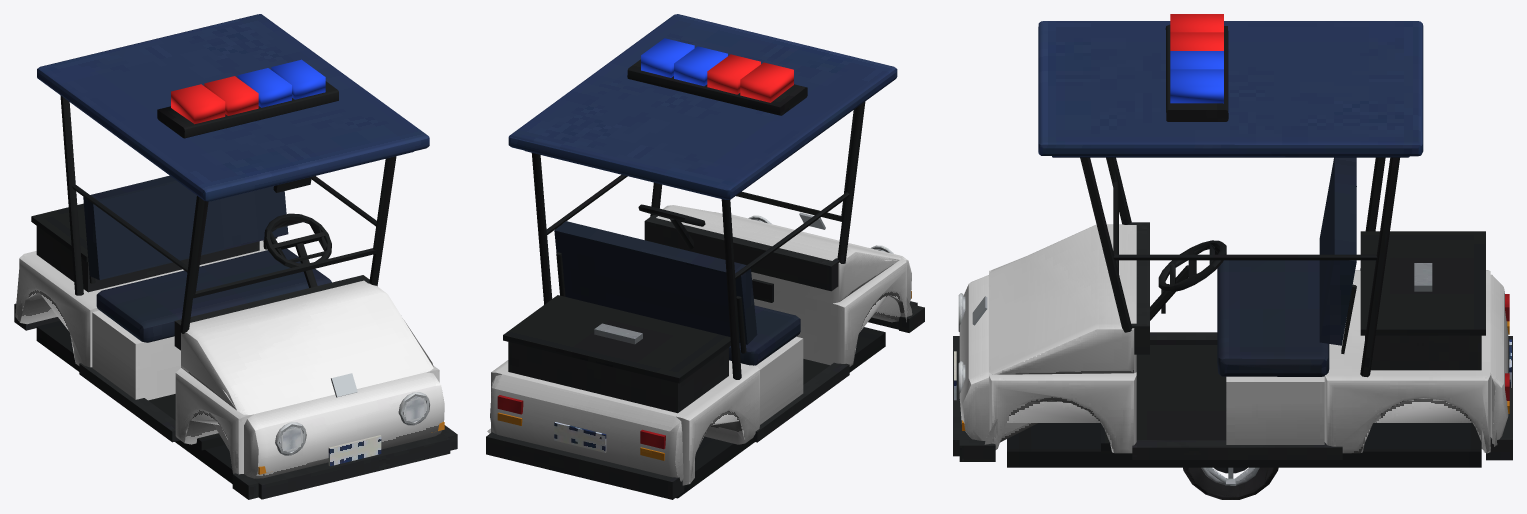
Rendered from hoacart.glb.
The picture shows the model from 3 angles, left to right: view 1: azimuth 30°, elevation 25°; view 2: azimuth 150°, elevation 25°; view 3: azimuth 270°, elevation 25°; orthographic projection. The views are drawn at different scales.
Parts seen in each view (by area): view 1: Body, Paint, Body_far, Paint_far, BarR, BarB; view 2: Body, Paint, Body_far, Paint_far, BarR, BarB; view 3: Body, Paint, Body_far, Paint_far, BarB, BarR, Wheel, Wheel_far.
Part boxes in pixels (x1,y1,x2,y2): Body: [14, 14, 457, 499]; Paint: [15, 240, 444, 478]; Body_far: [14, 14, 457, 489]; Paint_far: [15, 260, 439, 474]; BarR: [171, 76, 258, 124]; BarB: [237, 59, 325, 107]; Body: [486, 14, 924, 499]; Paint: [487, 205, 912, 485]; Body_far: [487, 58, 924, 499]; Paint_far: [492, 260, 911, 483]; BarR: [707, 54, 793, 102]; BarB: [641, 38, 727, 86]; Body: [953, 21, 1512, 467]; Paint: [959, 224, 1508, 452]; Body_far: [953, 80, 1512, 467]; Paint_far: [987, 372, 1501, 453]; BarB: [1170, 51, 1223, 103]; BarR: [1170, 14, 1223, 50]; Wheel: [1183, 467, 1278, 499]; Wheel_far: [1205, 467, 1268, 497].
Size of the model in its own units: 1.32 by 2.19 by 2.5.
Materials: 5 (3 with a texture image).
